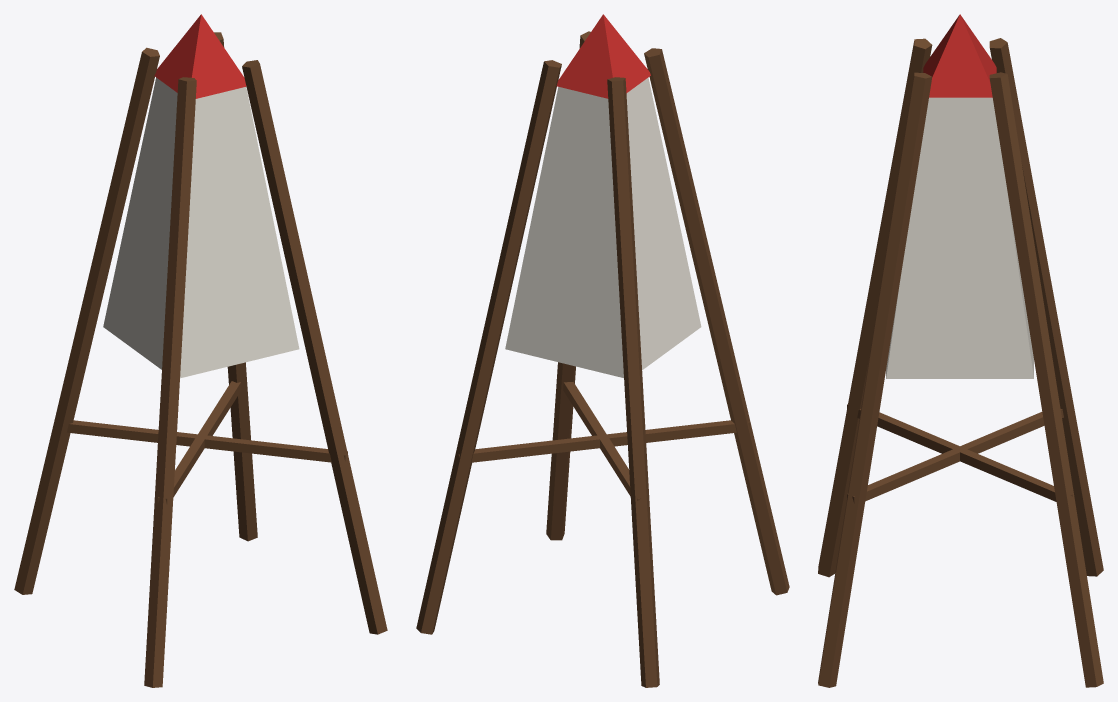
Rendered from bak.glb.
3 views of the same model, side by side, from view 1: azimuth 30°, elevation 25°; view 2: azimuth 150°, elevation 25°; view 3: azimuth 270°, elevation 25° (orthographic). The views are drawn at different scales.
Parts seen in each view (by area): view 1: bak; view 2: bak; view 3: bak.
Part boxes in pixels (x1,y1,x2,y2): bak: (14,14,387,687); bak: (416,14,789,687); bak: (818,14,1103,687).
Size of the model in its own units: 3.43 by 8.13 by 3.42.
